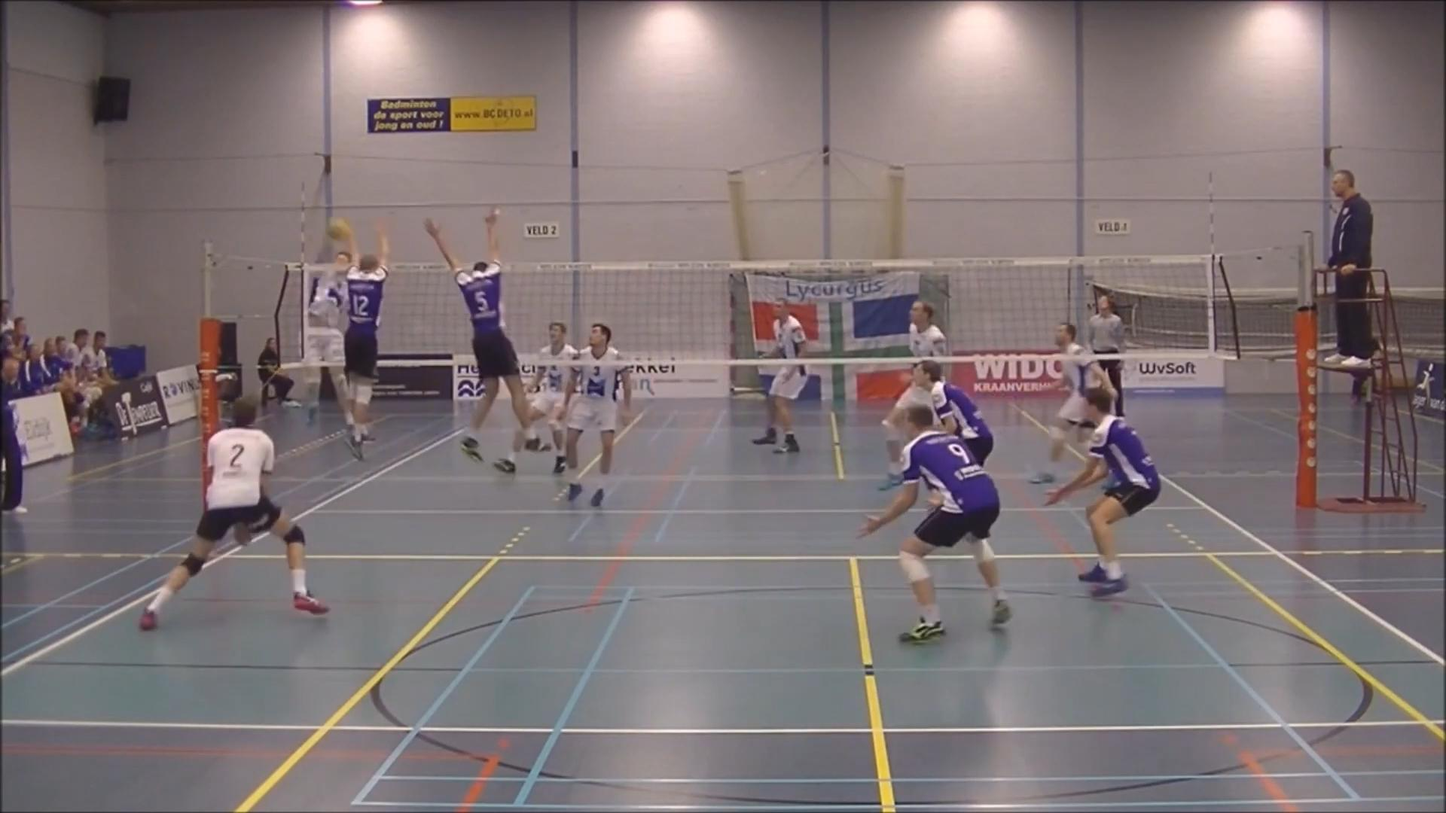Attack: (295, 215, 360, 462)
Block: (418, 206, 535, 474), (315, 213, 402, 464)
Player: (140, 397, 328, 630), (859, 404, 1011, 642), (1046, 387, 1161, 596), (1030, 324, 1112, 483), (564, 323, 631, 507), (913, 360, 993, 464), (753, 300, 807, 452), (526, 321, 578, 473), (880, 386, 929, 490)
ball: (324, 217, 351, 242)
